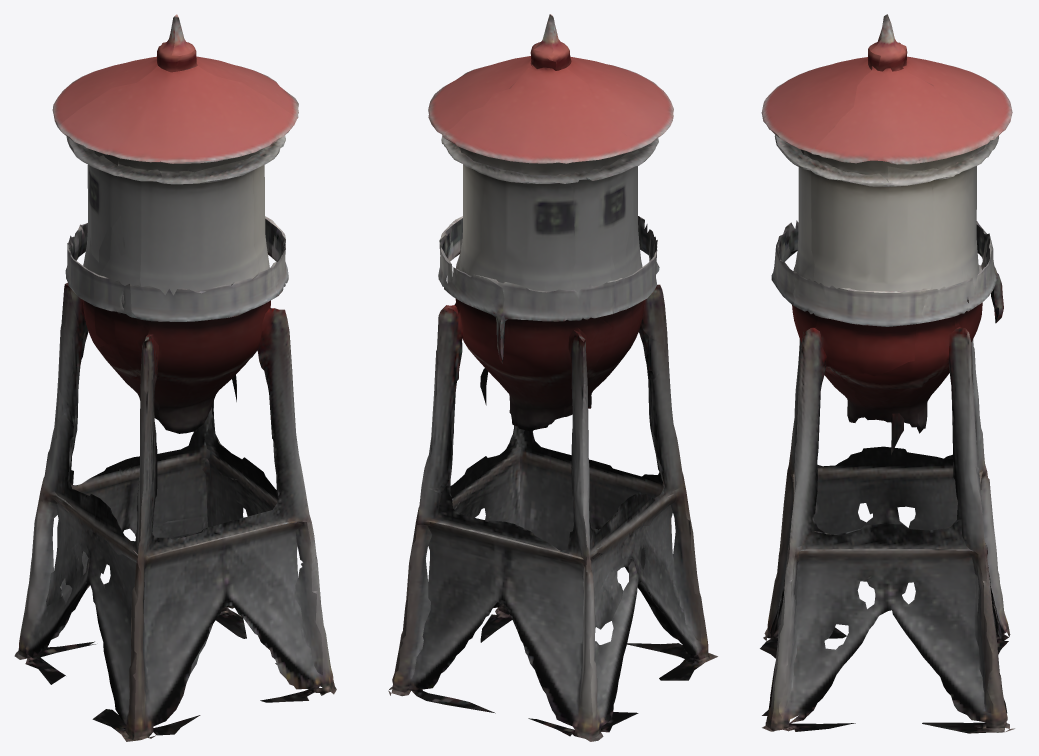
The model's file is water-tower.glb.
3 renders of one model, left to right at view 1: azimuth 30°, elevation 25°; view 2: azimuth 150°, elevation 25°; view 3: azimuth 270°, elevation 25°, orthographic.
Parts seen in each view (by area): view 1: geometry_0; view 2: geometry_0; view 3: geometry_0.
Part boxes in pixels (bbox=[...]): geometry_0: bbox=[14, 14, 336, 741]; geometry_0: bbox=[388, 14, 717, 741]; geometry_0: bbox=[760, 14, 1014, 733].
Bounding box in the file's own units: 0.1812 × 0.4908 × 0.1843.
Materials: 1 (1 with a texture image).
